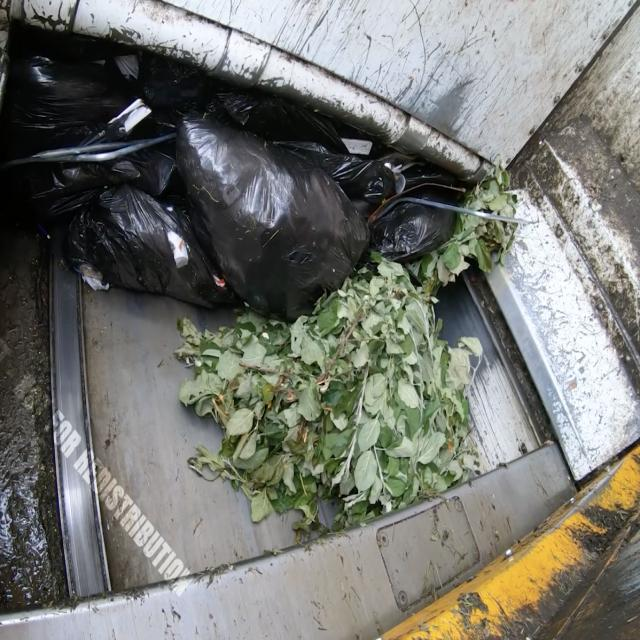bag: (4, 29, 429, 308)
yard: (154, 256, 554, 524)
